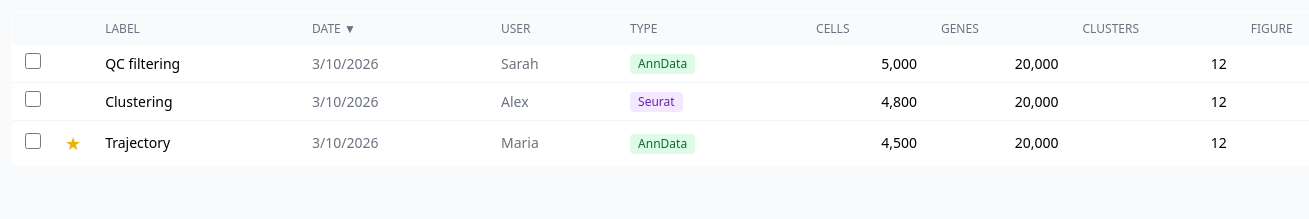
Test case: SnapshotComparisonTable › shows Compare Selected button when 2+ checkboxes selected
Click the checkbox next to "QC filtering" at (33, 61), box left=25, top=53, right=41, bottom=69
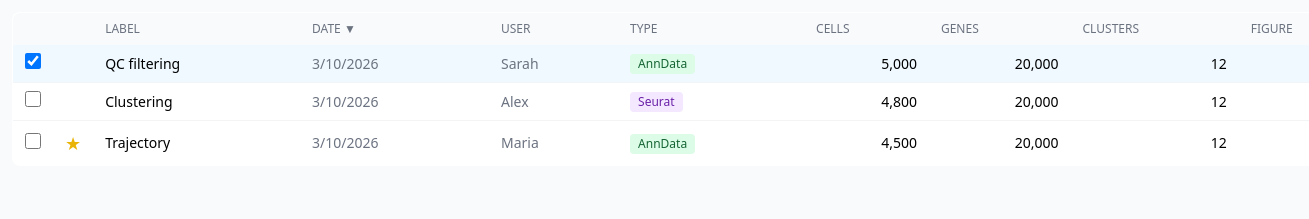
Click the checkbox next to "Clustering" at (33, 99), box left=25, top=91, right=41, bottom=107
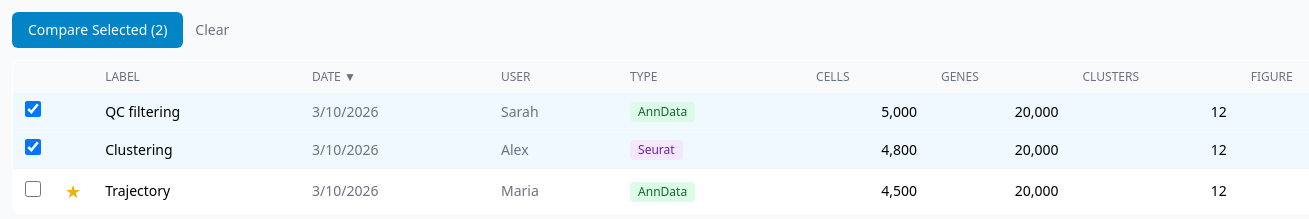
Now the button "Compare Selected (2)" is shown, box left=12, top=12, right=183, bottom=48
